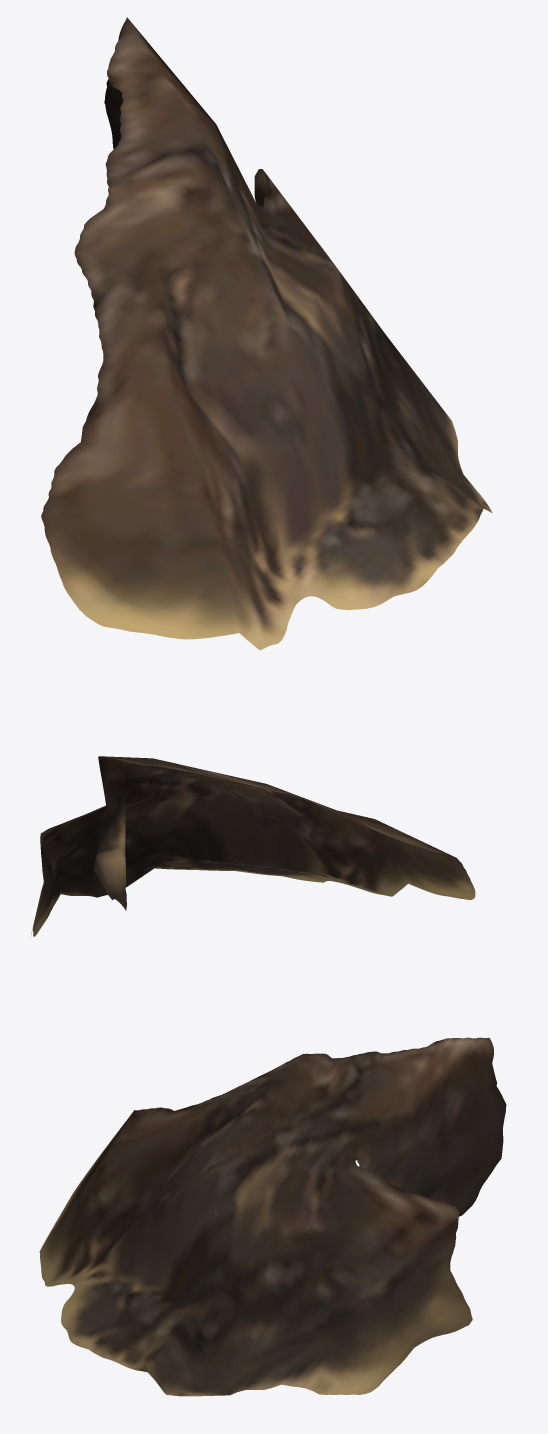
The model's file is rock_3_03.FBX.
3 views of the same model, one above another, from view 1: azimuth 30°, elevation 25°; view 2: azimuth 150°, elevation 25°; view 3: azimuth 270°, elevation 25° (orthographic). The views are drawn at different scales.
Parts seen in each view (by area): view 1: rock_3_03; view 2: rock_3_03; view 3: rock_3_03.
Boxes of the visible parts, x1,y1,x2,y2 form: rock_3_03: (41,17,492,650); rock_3_03: (31,756,475,936); rock_3_03: (39,1037,506,1396).
Size of the model in its own units: 278 by 189 by 277.
